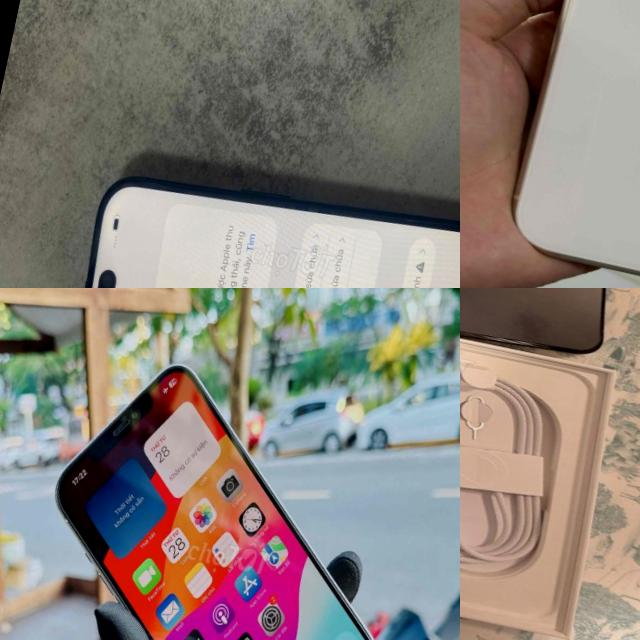gen_11: (498, 0, 640, 288)
gen_12_13: (0, 339, 431, 640)
gen_15: (39, 149, 460, 288)
gen_16: (460, 288, 640, 374)
